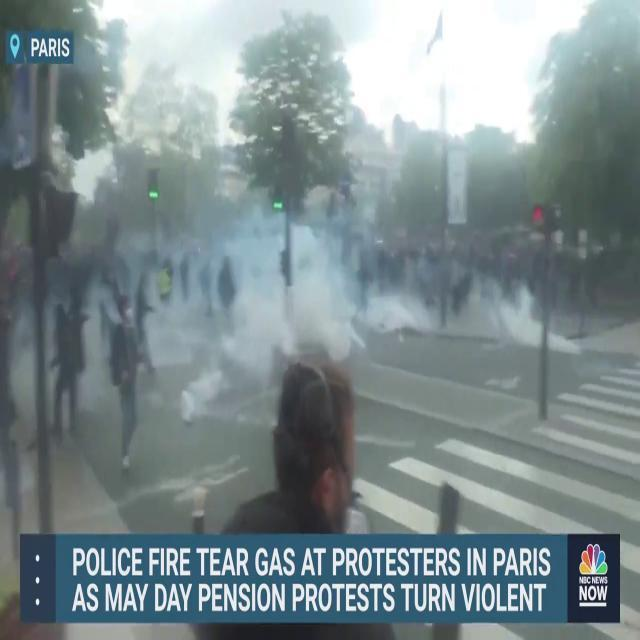Smoke: (0, 16, 384, 510)
